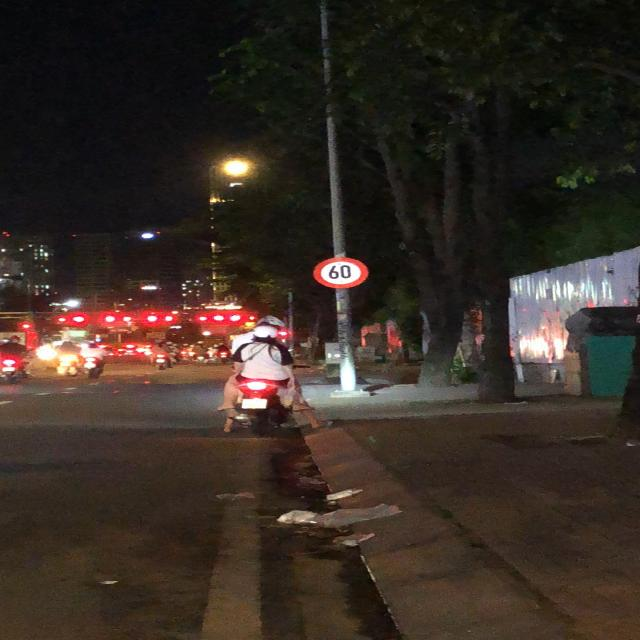Bien bao toc do toi da cho phep: (311, 254, 371, 290)
